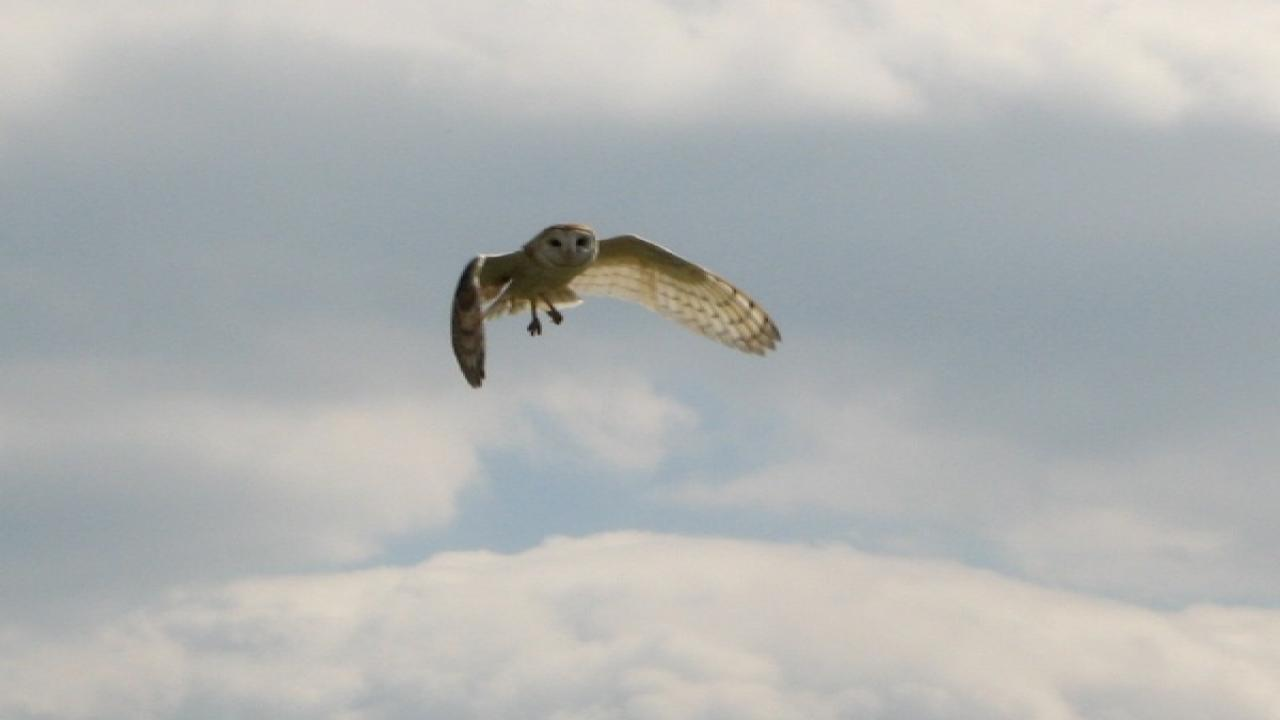Bird: (440, 217, 794, 393)
